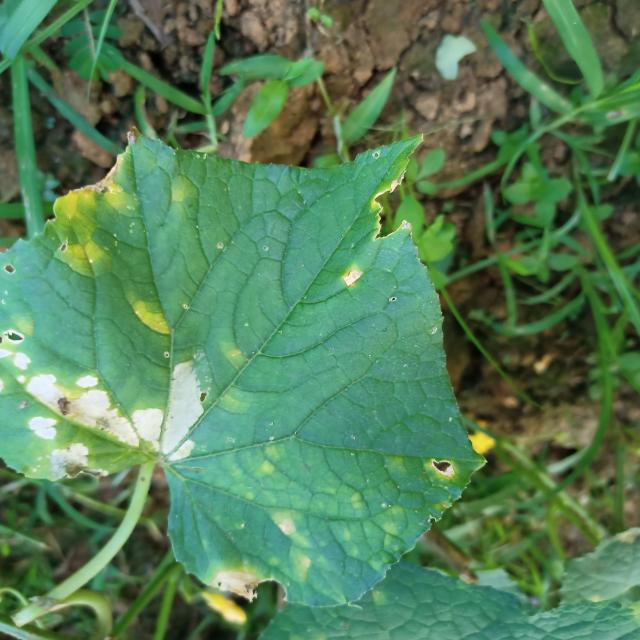disease_cucumber: (0, 344, 213, 482), (52, 180, 136, 278), (266, 504, 316, 578), (123, 295, 174, 337)
